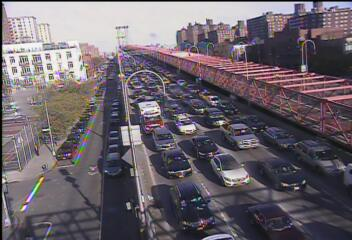neg: (38, 121, 57, 146), (77, 128, 90, 146)
